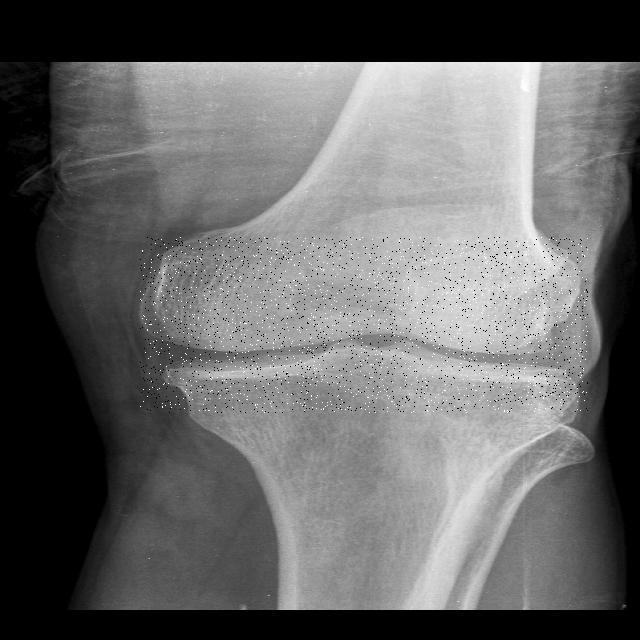osteo: (140, 237, 588, 413)
